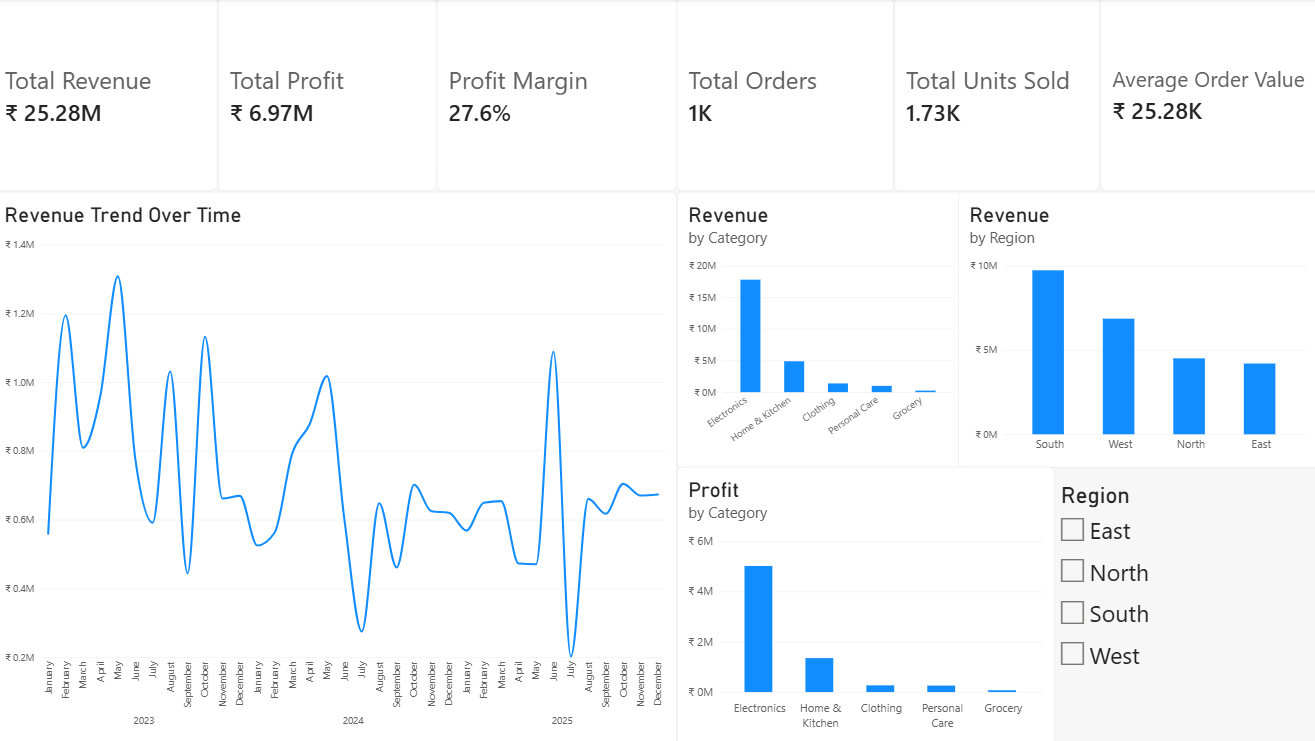

The dashboard page shown, as its layout file describes it:
{"tool":"powerbi","page":{"name":"Executive Overview","canvas":[1920,1080],"ordinal":0},"visuals":[{"type":"cardVisual","fields":{"Data":["transactions_clean.Total Revenue"]},"box":[0,0,325.2,279.9],"z":0},{"type":"cardVisual","fields":{"Data":["transactions_clean.Total Profit"]},"box":[325.2,0,317,279.9],"z":1000},{"type":"cardVisual","fields":{"Data":["transactions_clean.Profit Margin"]},"box":[642.2,0,347.9,279.9],"z":2000},{"type":"cardVisual","title":"Total Orders","fields":{"Data":["transactions_clean.Total Orders"]},"box":[990.1,0,314.9,279.9],"z":3000},{"type":"cardVisual","fields":{"Data":["transactions_clean.Total Units Sold"]},"box":[1305,0,298.5,279.9],"z":4000},{"type":"cardVisual","fields":{"Data":["transactions_clean.Average Order Value"]},"box":[1603.4,0,317,279.9],"z":5000},{"type":"lineChart","title":"Revenue Trend Over Time","fields":{"Category":["DateTable.Year","DateTable.Month"],"Y":["transactions_clean.Total Revenue"]},"box":[0,279.9,990.1,800.7],"z":6000},{"type":"clusteredColumnChart","title":"Revenue","fields":{"Category":["products_clean.Category"],"Y":["transactions_clean.Total Revenue"]},"box":[990.1,279.9,419.9,399.3],"z":7000},{"type":"clusteredColumnChart","title":"Revenue","fields":{"Category":["stores_clean.Region"],"Y":["transactions_clean.Total Revenue"]},"box":[1397.6,279.9,522.8,399.3],"z":8000},{"type":"clusteredColumnChart","title":"Profit","fields":{"Category":["products_clean.Category"],"Y":["transactions_clean.Total Profit"]},"box":[990.1,679.2,547.5,401.4],"z":9000},{"type":"slicer","fields":{"Values":["stores_clean.Region"]},"box":[1537.6,699.8,382.8,380.8],"z":10000}]}

Visuals, with their boxes in screenshot pixels (x1, y1, x2, y2), scaled from the page's 1920x1080 canvas onto the 1315x741 screenshot:
cardVisual - transactions_clean.Total Revenue: rect(0, 0, 223, 192)
cardVisual - transactions_clean.Total Profit: rect(223, 0, 440, 192)
cardVisual - transactions_clean.Profit Margin: rect(440, 0, 678, 192)
"Total Orders" cardVisual: rect(678, 0, 894, 192)
cardVisual - transactions_clean.Total Units Sold: rect(894, 0, 1098, 192)
cardVisual - transactions_clean.Average Order Value: rect(1098, 0, 1314, 192)
"Revenue Trend Over Time" lineChart: rect(0, 192, 678, 740)
"Revenue" clusteredColumnChart: rect(678, 192, 966, 466)
"Revenue" clusteredColumnChart: rect(957, 192, 1314, 466)
"Profit" clusteredColumnChart: rect(678, 466, 1053, 740)
slicer - stores_clean.Region: rect(1053, 480, 1314, 740)
